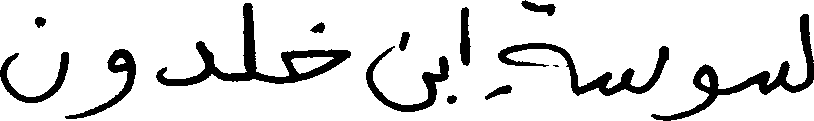ا: (457, 5, 470, 67)
ب: (436, 54, 449, 105)
ة: (496, 0, 577, 78)
خ: (279, 19, 350, 83)
د: (155, 38, 214, 85)
س: (755, 12, 812, 98), (597, 44, 668, 96)
ل: (241, 1, 256, 81)
ن: (0, 14, 69, 106), (364, 30, 437, 112)
و: (677, 55, 717, 115), (105, 46, 138, 108)
